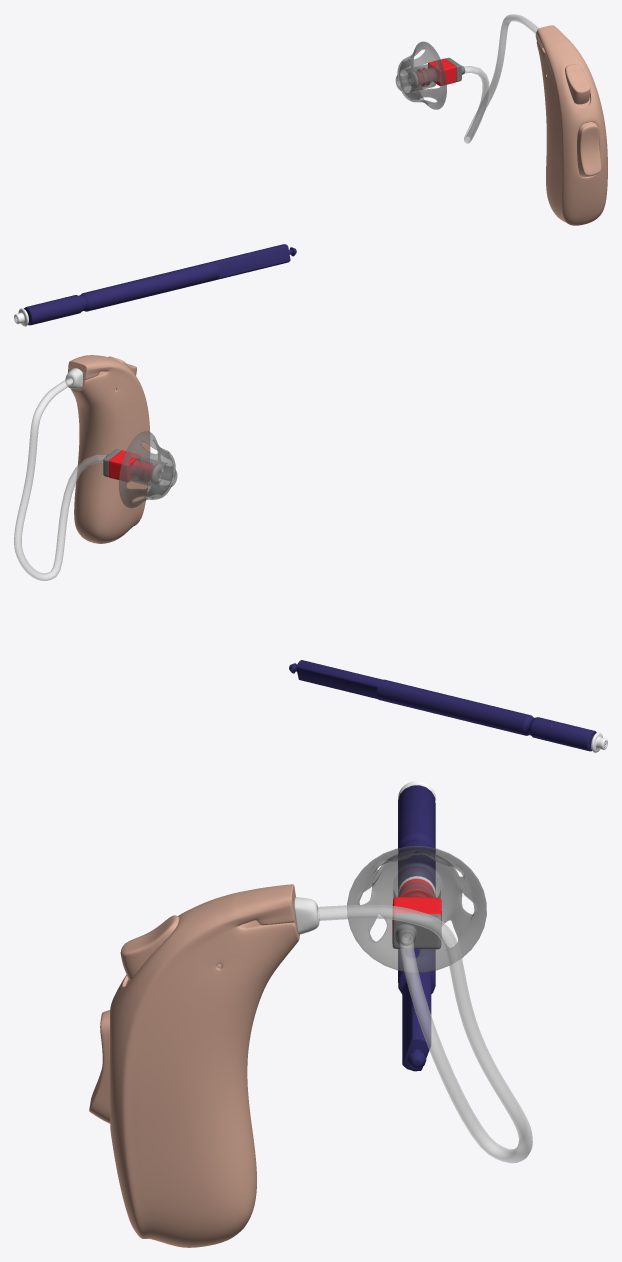
File: Ion (Waxguard Change).glb
The picture shows the model from 3 angles, top to bottom: view 1: azimuth 30°, elevation 25°; view 2: azimuth 150°, elevation 25°; view 3: azimuth 270°, elevation 25°; orthographic projection. The views are drawn at different scales.
Parts seen in each view (by area): view 1: Plane.021, Stapici.001, Dome 1 (Ion).001, BezierCurve.007, VolumeControl 2.003, PowerButton 2.003, Plane.024; view 2: Plane.021, Stapici.001, BezierCurve.007, Dome 1 (Ion).001, Plane.024; view 3: Plane.021, Dome 1 (Ion).001, BezierCurve.007, Stapici.001, Plane.022, PowerButton 2.003, Plane.024, VolumeControl 2.003, Hearing Aid .003.
Part boxes in pixels (x1=…): Plane.021: x1=536, y1=25, x2=607, y2=225; Stapici.001: x1=24, y1=244, x2=296, y2=325; Dome 1 (Ion).001: x1=395, y1=41, x2=446, y2=109; BezierCurve.007: x1=464, y1=14, x2=538, y2=143; VolumeControl 2.003: x1=577, y1=122, x2=601, y2=177; PowerButton 2.003: x1=565, y1=64, x2=590, y2=104; Plane.024: x1=414, y1=58, x2=456, y2=86; Plane.021: x1=68, y1=355, x2=150, y2=543; Stapici.001: x1=289, y1=660, x2=596, y2=751; BezierCurve.007: x1=14, y1=378, x2=106, y2=580; Dome 1 (Ion).001: x1=119, y1=431, x2=177, y2=508; Plane.024: x1=108, y1=450, x2=155, y2=481; Plane.021: x1=109, y1=884, x2=299, y2=1247; Dome 1 (Ion).001: x1=347, y1=846, x2=486, y2=972; BezierCurve.007: x1=317, y1=904, x2=532, y2=1163; Stapici.001: x1=398, y1=785, x2=435, y2=1071; Plane.022: x1=392, y1=913, x2=441, y2=949; PowerButton 2.003: x1=120, y1=915, x2=179, y2=980; Plane.024: x1=392, y1=878, x2=441, y2=938; VolumeControl 2.003: x1=89, y1=1010, x2=110, y2=1123; Hearing Aid .003: x1=294, y1=897, x2=319, y2=934.
Bounding box in the file's own units: 4.19 × 1.56 × 1.55.
